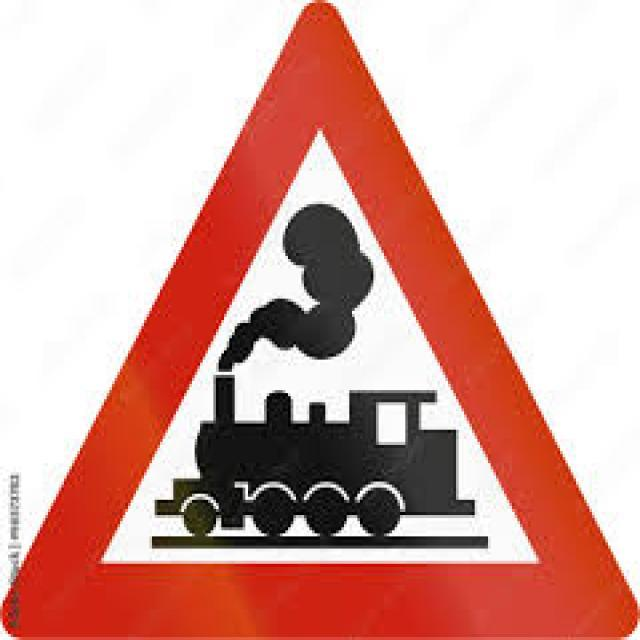unguarded level crossing: (16, 22, 620, 622)
